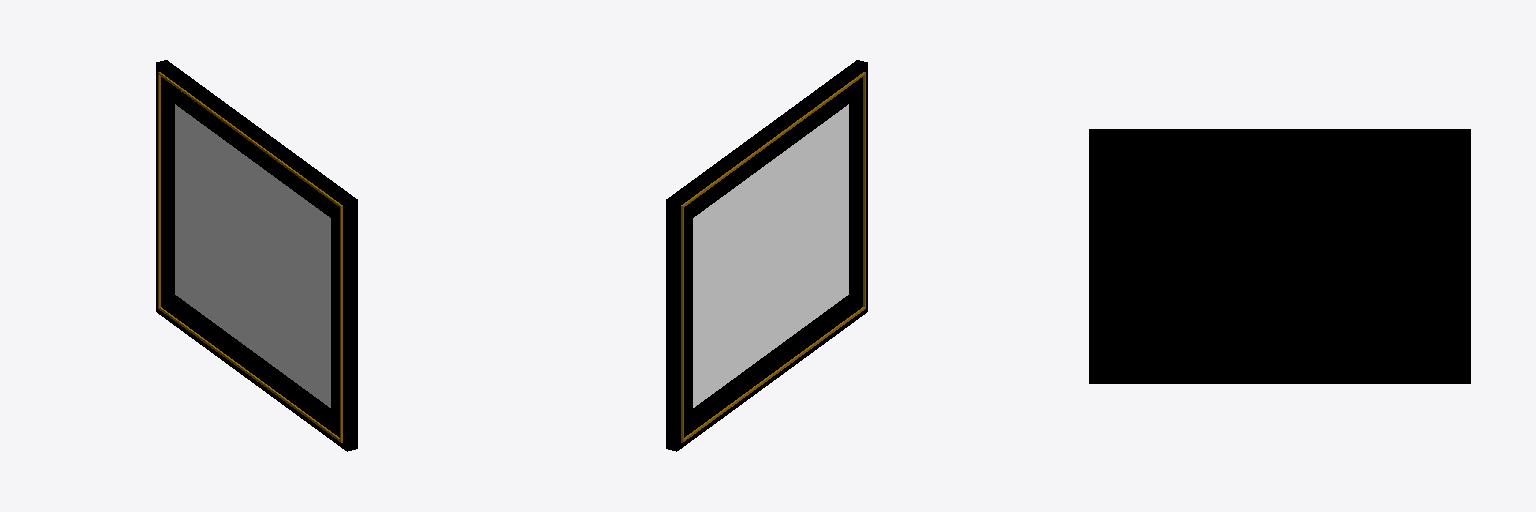
Rendered from paintingframe2.obj.
3 renders of one model, left to right at view 1: azimuth 30°, elevation 25°; view 2: azimuth 150°, elevation 25°; view 3: azimuth 270°, elevation 25°, orthographic.
Visible parts, largest first — view 1: paintingframe2_Mesh.004; view 2: paintingframe2_Mesh.004; view 3: paintingframe2_Mesh.004.
Part boxes in pixels (left/top/right/bottom): paintingframe2_Mesh.004: left=156, top=60, right=357, bottom=451; paintingframe2_Mesh.004: left=666, top=60, right=867, bottom=451; paintingframe2_Mesh.004: left=1089, top=129, right=1470, bottom=383.
Size of the model in its own units: 0.1105 by 2.1 by 2.92.